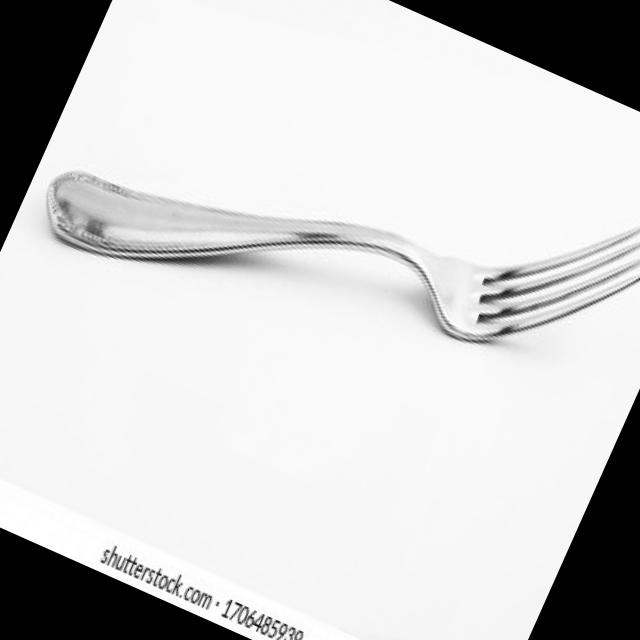fork: (28, 0, 640, 467)
